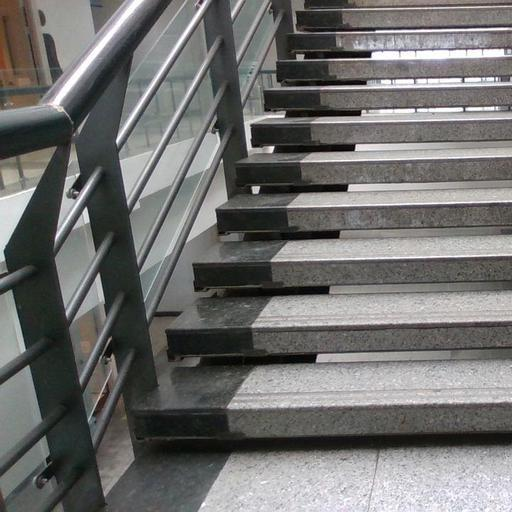stairs: (132, 0, 511, 439)
